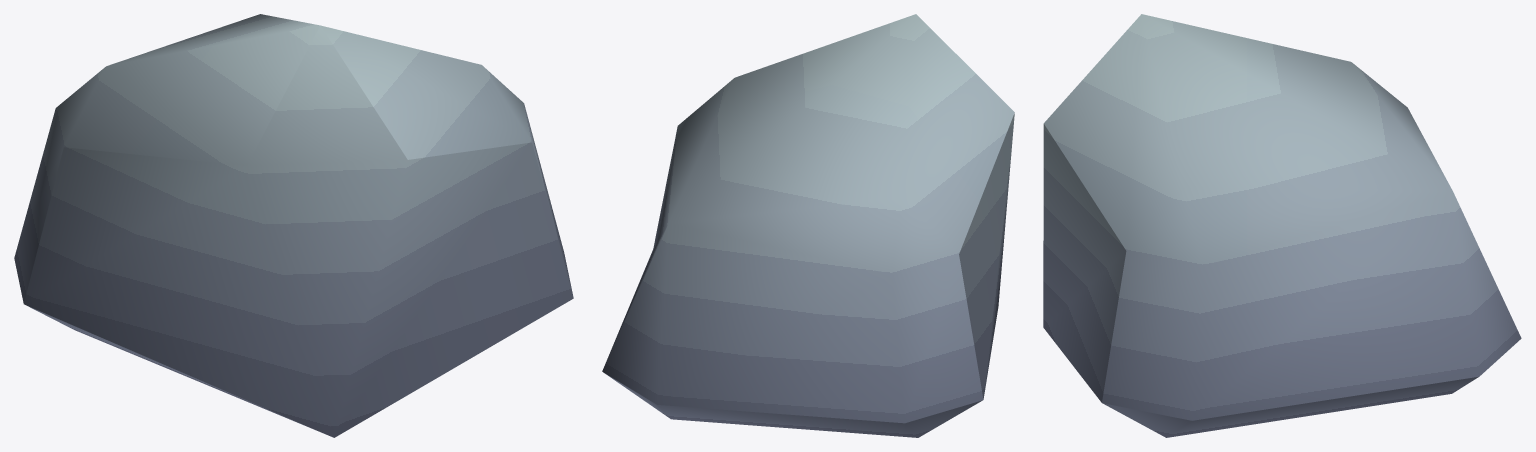
File: rock1.FBX
3 views of the same model, side by side, from view 1: azimuth 30°, elevation 25°; view 2: azimuth 150°, elevation 25°; view 3: azimuth 270°, elevation 25° (orthographic). The views are drawn at different scales.
Parts seen in each view (by area): view 1: rock1; view 2: rock1; view 3: rock1.
Boxes of the visible parts, left/top/right/bottom form: rock1: left=14, top=14, right=573, bottom=437; rock1: left=602, top=14, right=1014, bottom=437; rock1: left=1043, top=14, right=1521, bottom=437.
Size of the model in its own units: 6.96 by 5.27 by 6.9.
